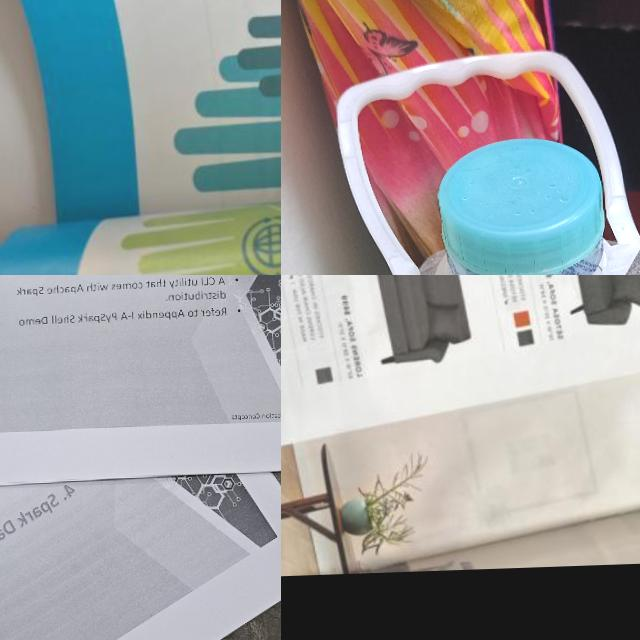papel: (281, 275, 640, 584), (0, 0, 281, 275), (0, 416, 281, 640), (0, 275, 281, 496)
tampa plástica: (438, 133, 609, 274)
